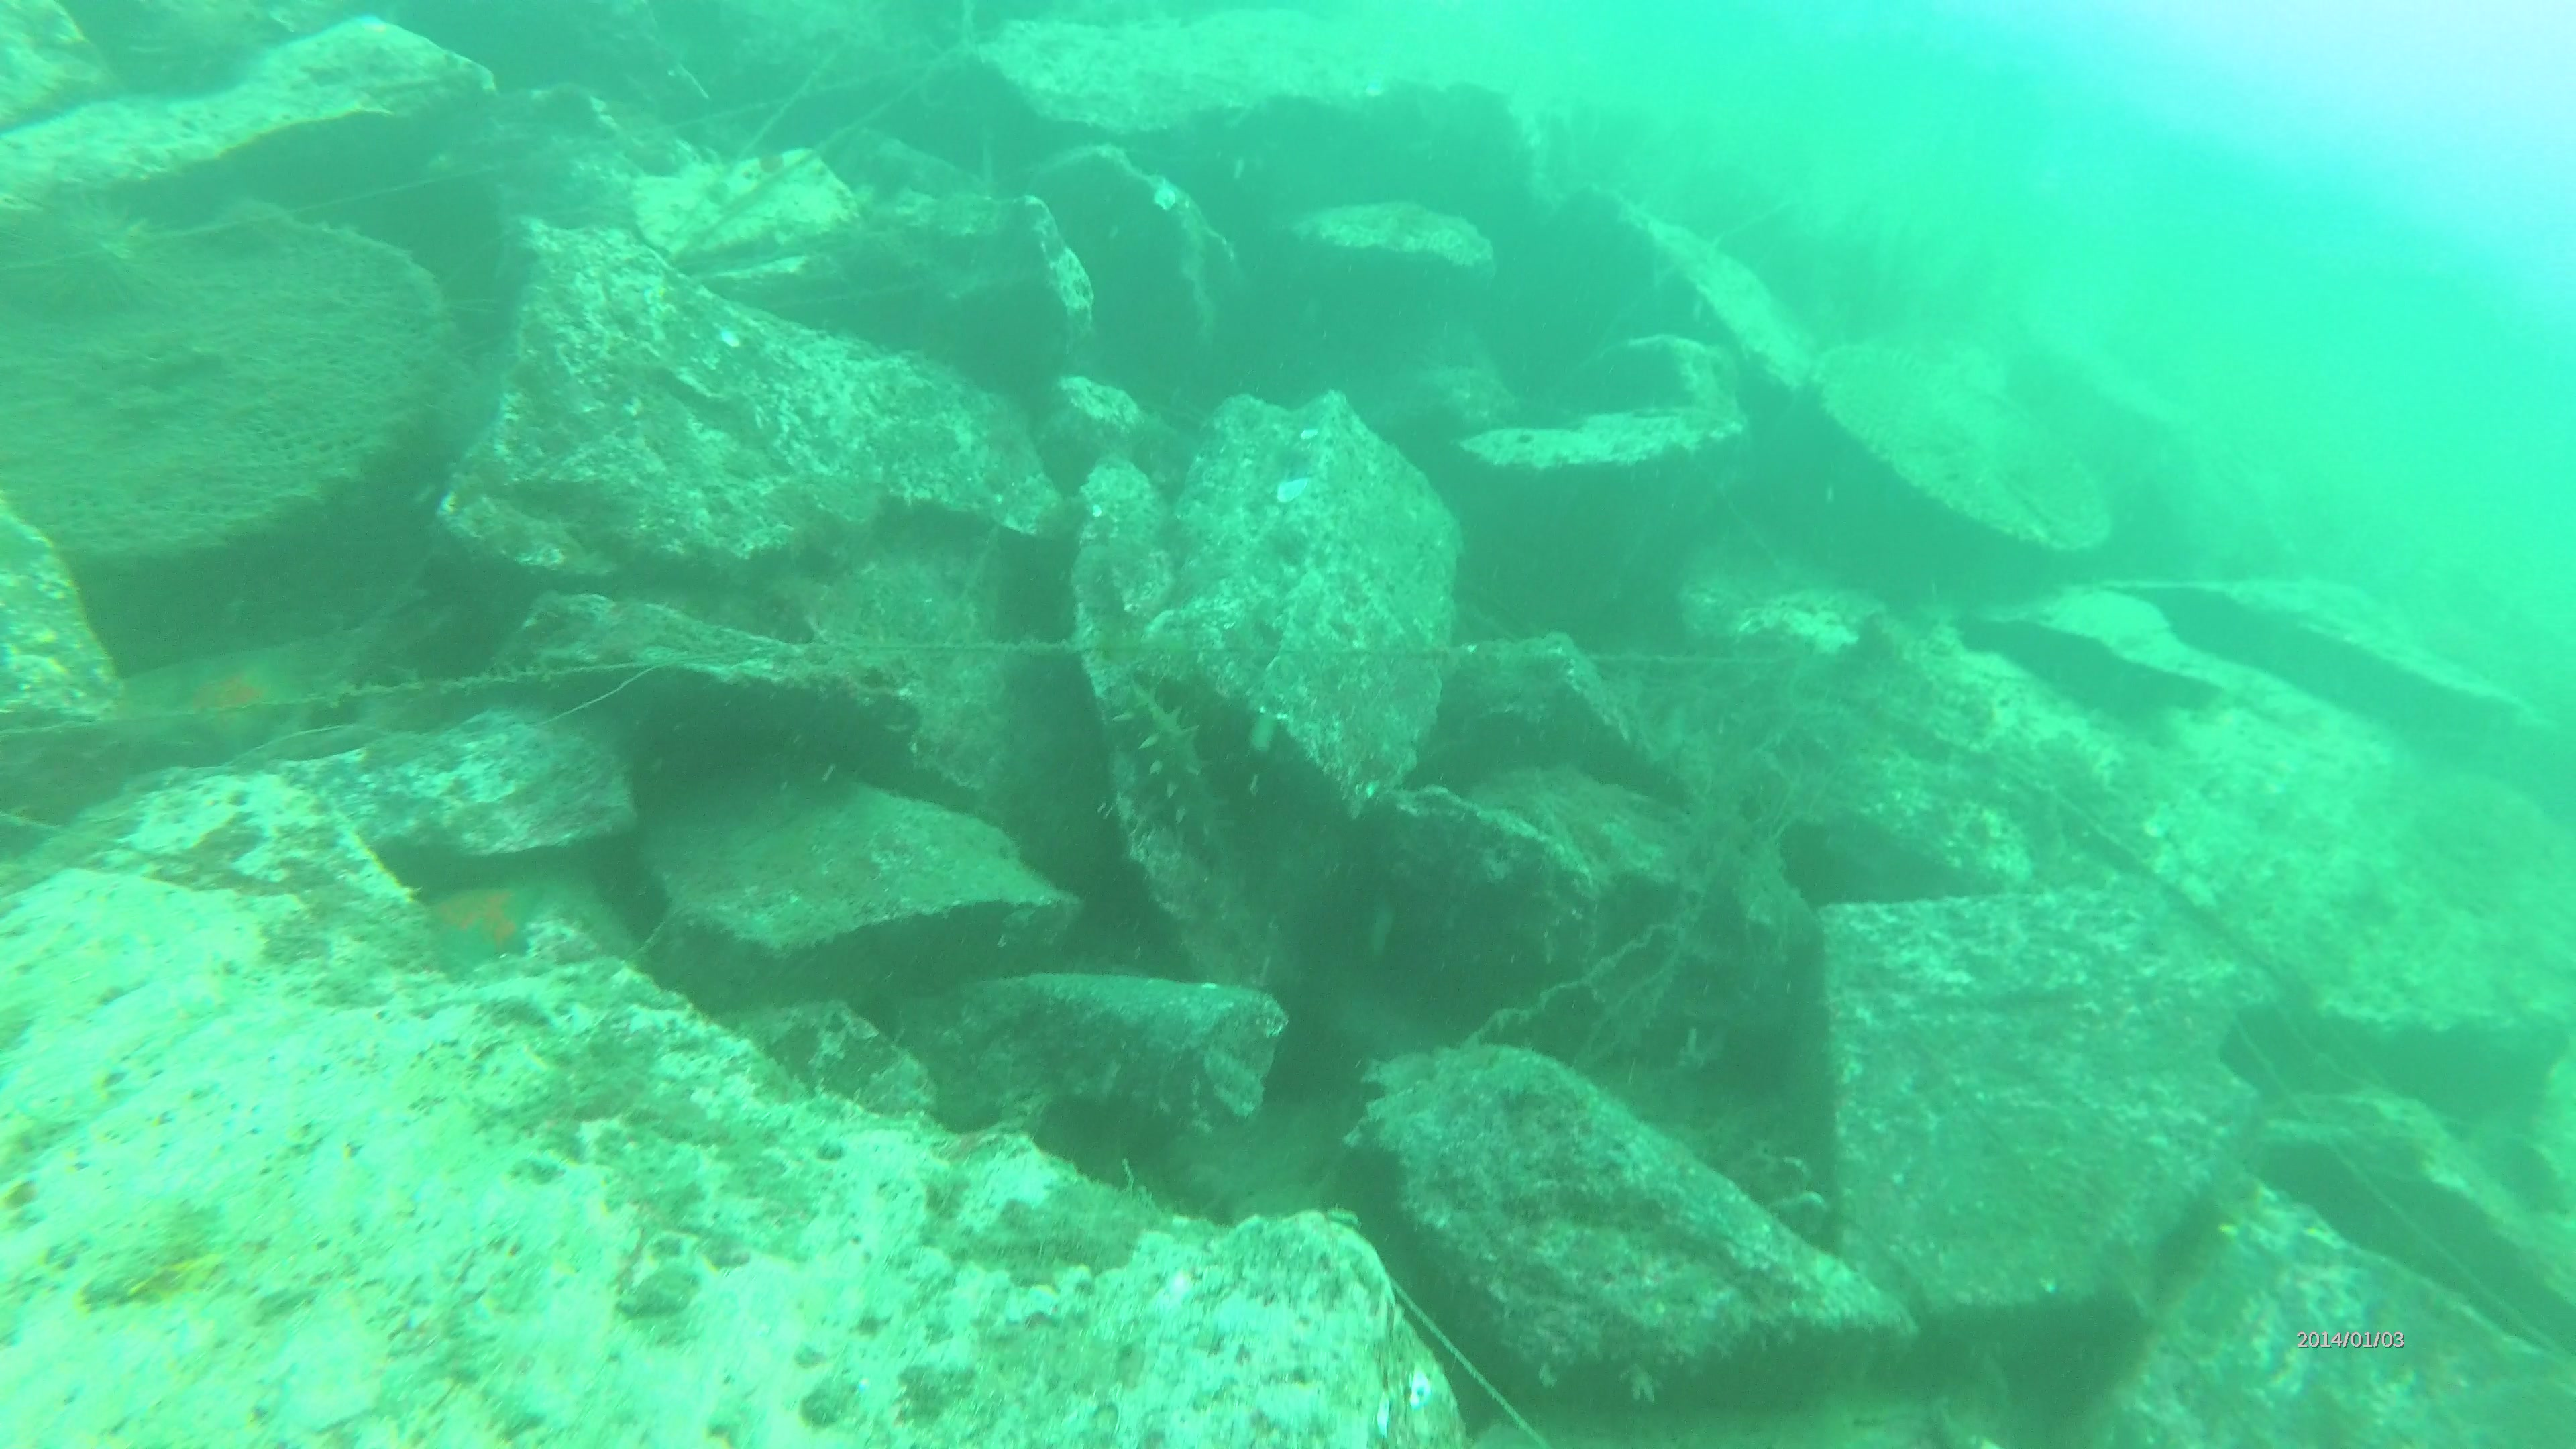holothurian: (1106, 674, 1254, 865)
starfish: (143, 644, 304, 752), (419, 862, 545, 970)
